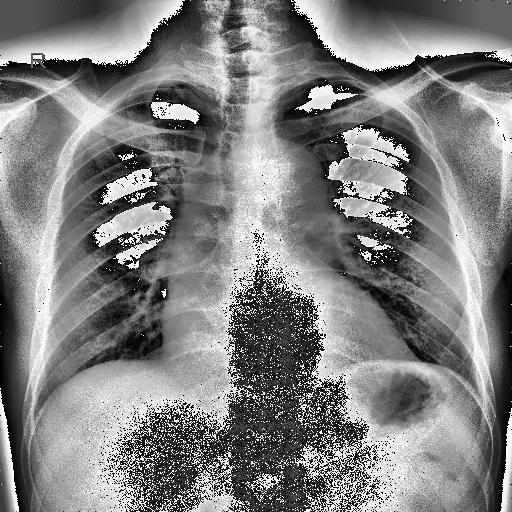0- Aortic enlargement: (234, 138, 332, 223), (242, 138, 330, 222), (252, 138, 326, 208)
11- Pleural thickening: (112, 76, 184, 106), (276, 77, 318, 110)
3- Cardiomegaly: (158, 318, 402, 398), (160, 312, 424, 370), (162, 334, 414, 378)
